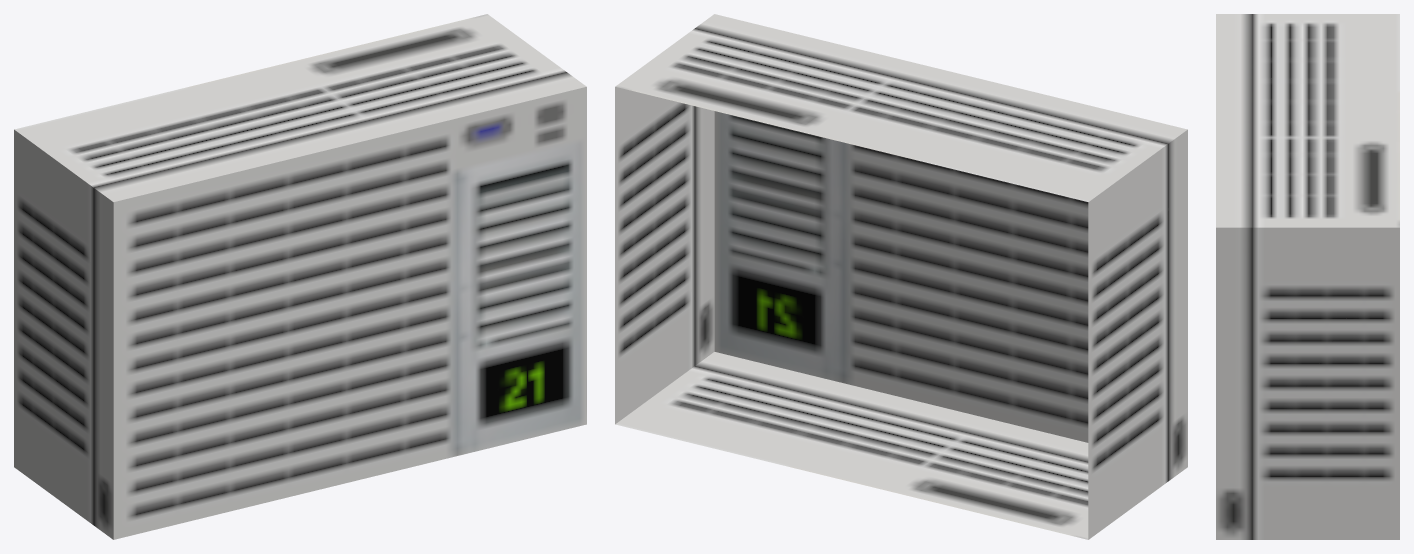
3 views of the same model, side by side, from view 1: azimuth 30°, elevation 25°; view 2: azimuth 150°, elevation 25°; view 3: azimuth 270°, elevation 25° (orthographic). The views are drawn at different scales.
Visible parts, largest first — view 1: polySurface692; view 2: polySurface692; view 3: polySurface692.
Part boxes in pixels (x1,y1,x2,y2): polySurface692: (14, 14, 586, 539); polySurface692: (615, 14, 1187, 539); polySurface692: (1216, 14, 1399, 539).
Bounding box in the file's own units: 2.2 × 1.5 × 0.8.
